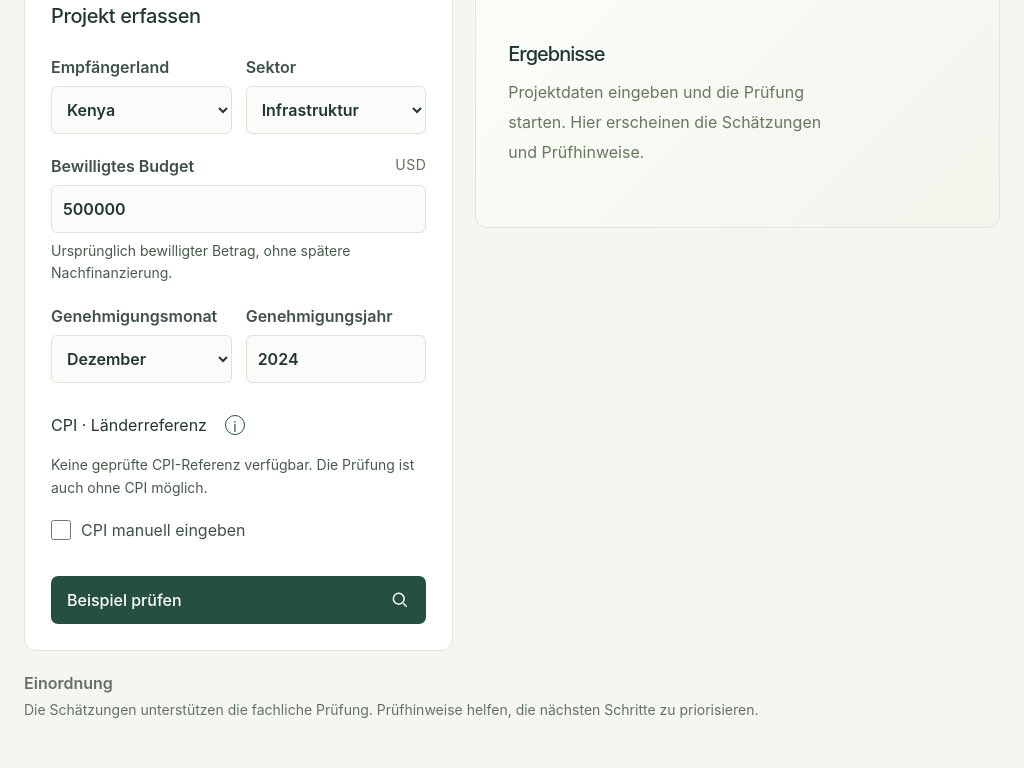
Test: project screening › labels demo values and submits the API contract
(page scrolled)
expect the heading "Projekt erfassen" is shown: met, box [51, 1, 201, 31]
Click the button "Beispiel prüfen" at (124, 600), box [51, 576, 426, 624]
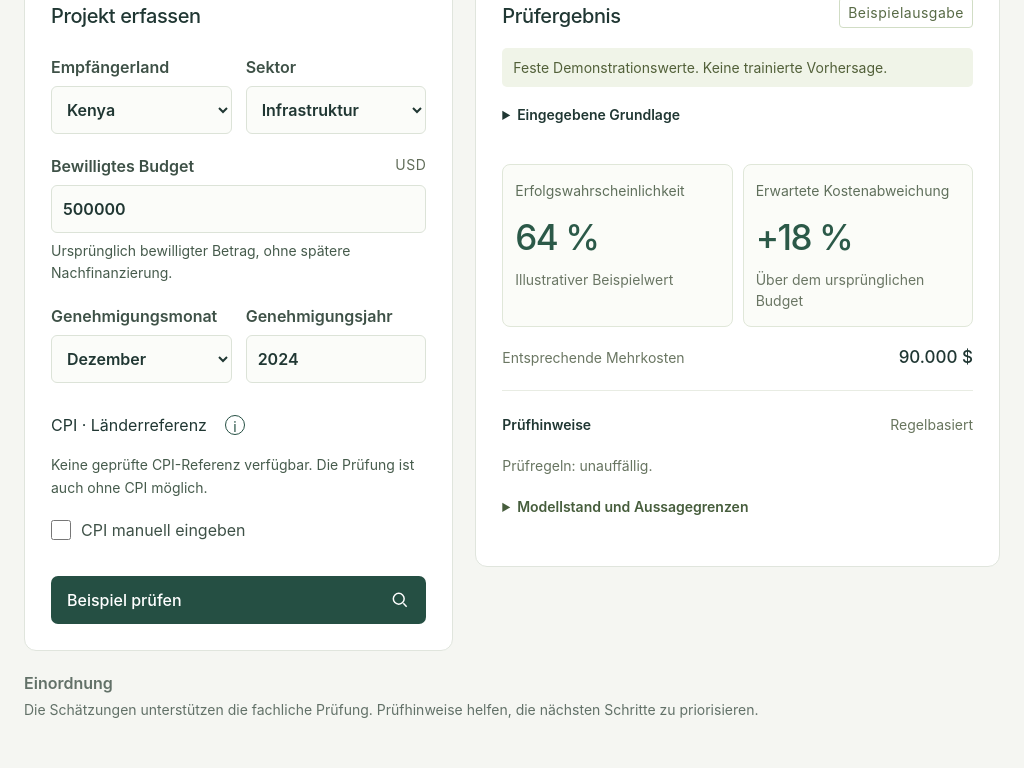
expect the heading "Prüfergebnis" is shown: met, box [502, 1, 621, 31]
expect the text "Feste Demonstrationswerte. Keine trainierte Vorhersage." is shown: met, box [502, 48, 973, 87]
